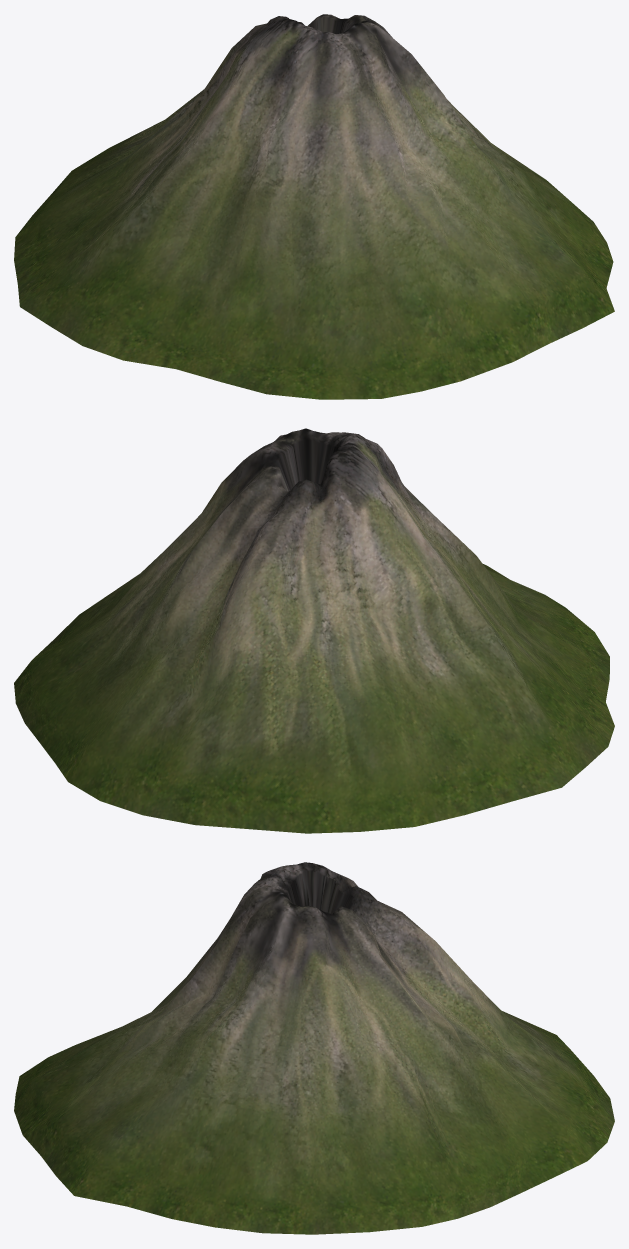
The model's file is volcano_sleep.obj.
The picture shows the model from 3 angles, top to bottom: view 1: azimuth 30°, elevation 25°; view 2: azimuth 150°, elevation 25°; view 3: azimuth 270°, elevation 25°; orthographic projection. The views are drawn at different scales.
Bounding box in the file's own units: 7.54 × 3.53 × 7.89.
Materials: 1 (1 with a texture image).
